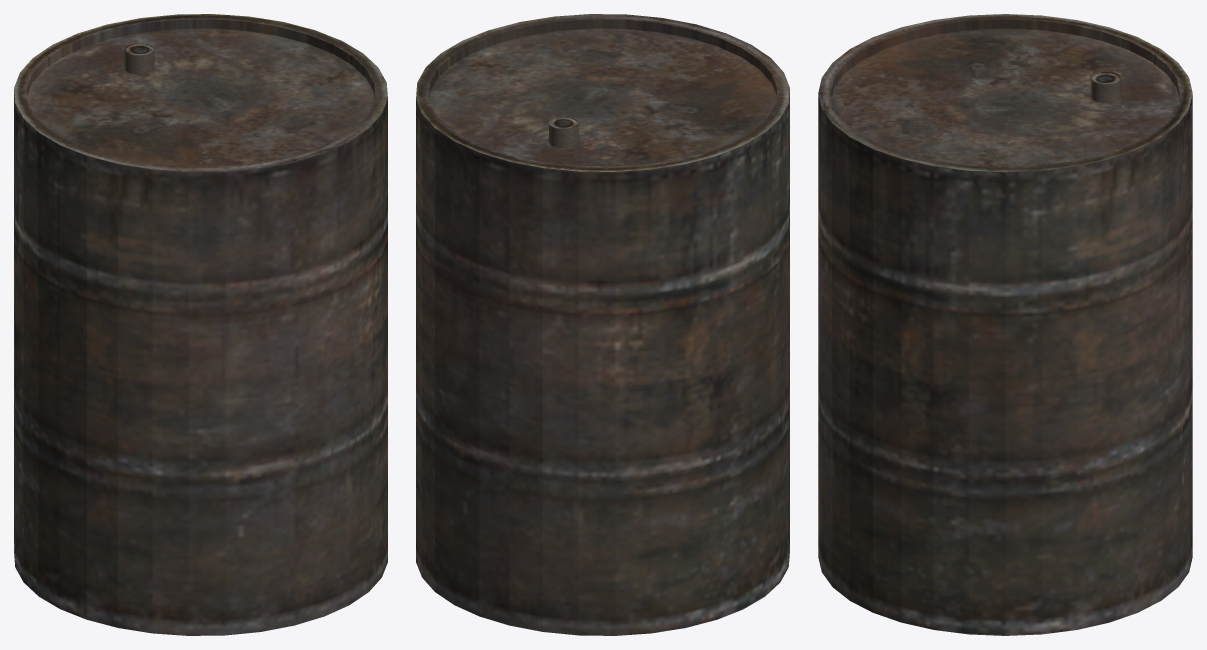
The model's file is barrel1.obj.
The picture shows the model from 3 angles, left to right: view 1: azimuth 30°, elevation 25°; view 2: azimuth 150°, elevation 25°; view 3: azimuth 270°, elevation 25°; orthographic projection.
Visible parts, largest first — view 1: Цилиндр.001_Цилиндр.003; view 2: Цилиндр.001_Цилиндр.003; view 3: Цилиндр.001_Цилиндр.003.
Boxes of the visible parts, x1,y1,x2,y2 form: Цилиндр.001_Цилиндр.003: [14, 14, 387, 635]; Цилиндр.001_Цилиндр.003: [416, 14, 789, 635]; Цилиндр.001_Цилиндр.003: [818, 14, 1192, 635].
Size of the model in its own units: 0.729 by 1.02 by 0.729.
